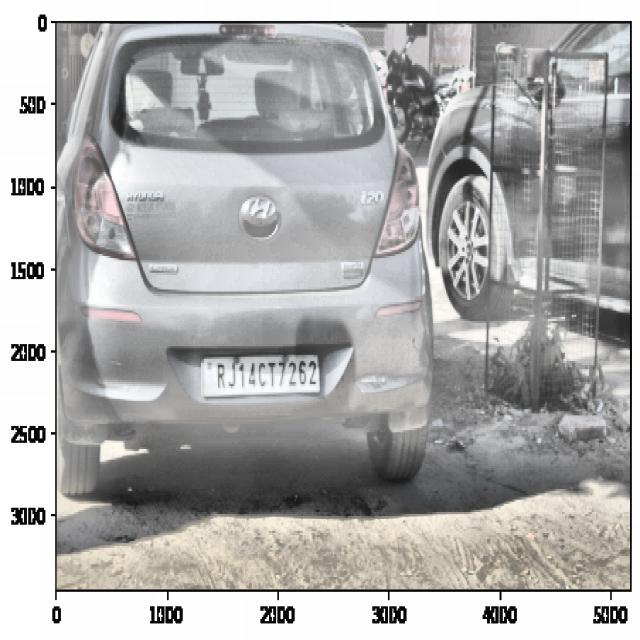license_plate: (209, 352, 321, 396)
